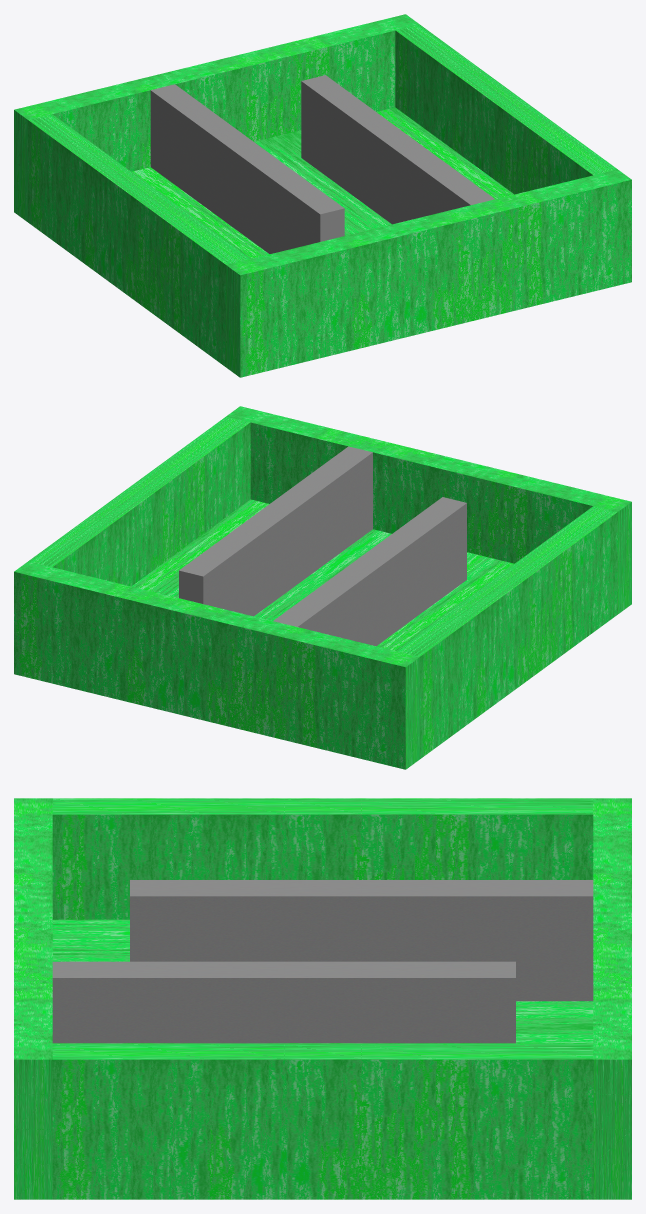
Rendered from Stage01Ground.fbx.
The picture shows the model from 3 angles, top to bottom: view 1: azimuth 30°, elevation 25°; view 2: azimuth 150°, elevation 25°; view 3: azimuth 270°, elevation 25°; orthographic projection. The views are drawn at different scales.
Visible parts, largest first — view 1: Box004, Box002, Box005, Box003, Box007, Box006, Ground; view 2: Box005, Box002, Box004, Box003, Box006, Box007, Ground; view 3: Box003, Box002, Box007, Box006, Box005, Box004, Ground.
Boxes of the visible parts, bbox=[...] form: Box004: bbox=[226, 169, 631, 377]; Box002: bbox=[28, 114, 249, 366]; Box005: bbox=[14, 14, 419, 221]; Box003: bbox=[395, 24, 617, 194]; Box007: bbox=[150, 84, 344, 253]; Box006: bbox=[301, 75, 494, 224]; Ground: bbox=[131, 107, 513, 258]; Box005: bbox=[14, 561, 419, 769]; Box002: bbox=[396, 506, 617, 758]; Box004: bbox=[226, 406, 631, 613]; Box003: bbox=[28, 416, 250, 586]; Box006: bbox=[179, 446, 372, 616]; Box007: bbox=[273, 497, 466, 645]; Ground: bbox=[132, 499, 514, 650]; Box003: bbox=[52, 1043, 593, 1199]; Box002: bbox=[52, 798, 593, 919]; Box007: bbox=[130, 880, 593, 1001]; Box006: bbox=[52, 961, 515, 1043]; Box005: bbox=[593, 798, 631, 1199]; Box004: bbox=[14, 798, 52, 1199]; Ground: bbox=[52, 919, 593, 1043].
Size of the model in its own units: 4000 by 4000 by 1000.
